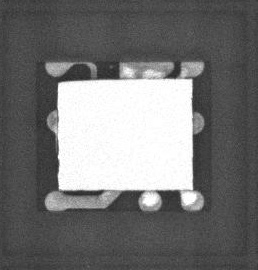DIE_BROKEN: (58, 79, 96, 84)
